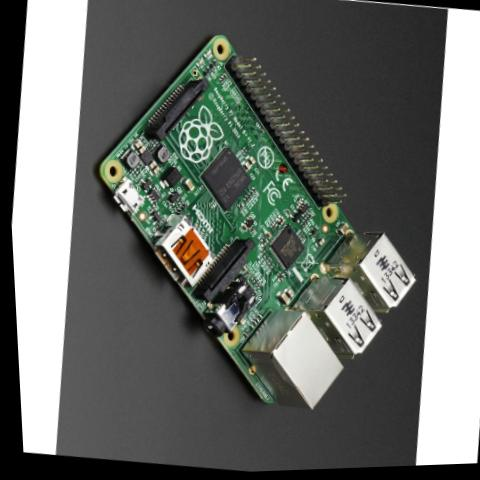Raspberry-Pi-1-Model-B-: (55, 5, 457, 435)
